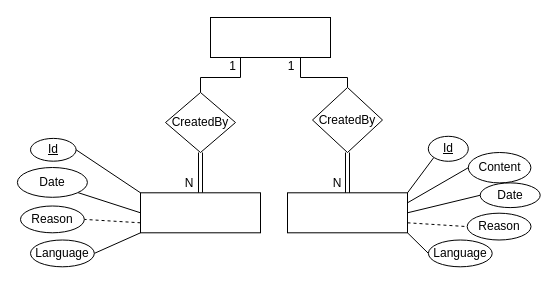
Image size: 558x285. Some labels were removed from this diagram. The centre of each missing label's shape, as x and y in pixels:
"Admin" belongs at (x=270, y=37).
"Form" belongs at (x=200, y=212).
"Terms" belongs at (x=347, y=212).
